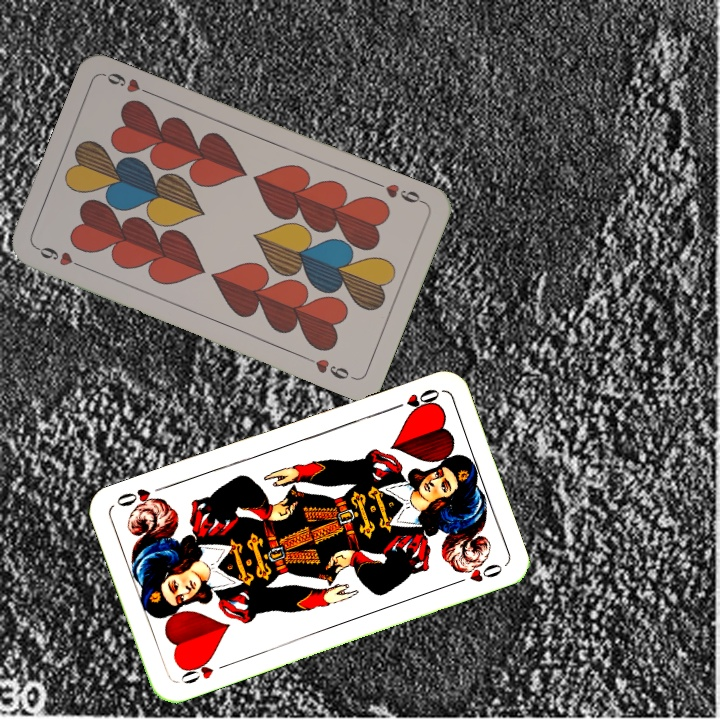H9: (32, 242, 89, 272), (371, 177, 427, 207)
HO: (174, 654, 232, 687), (385, 385, 442, 414)
